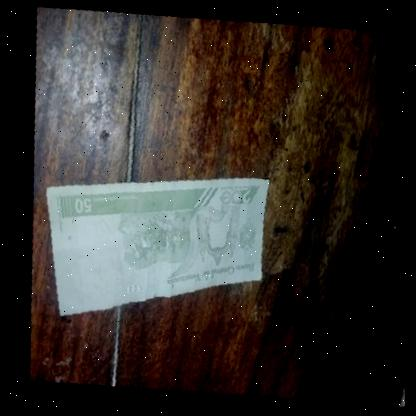fifty-back-vef: (17, 136, 281, 353)
